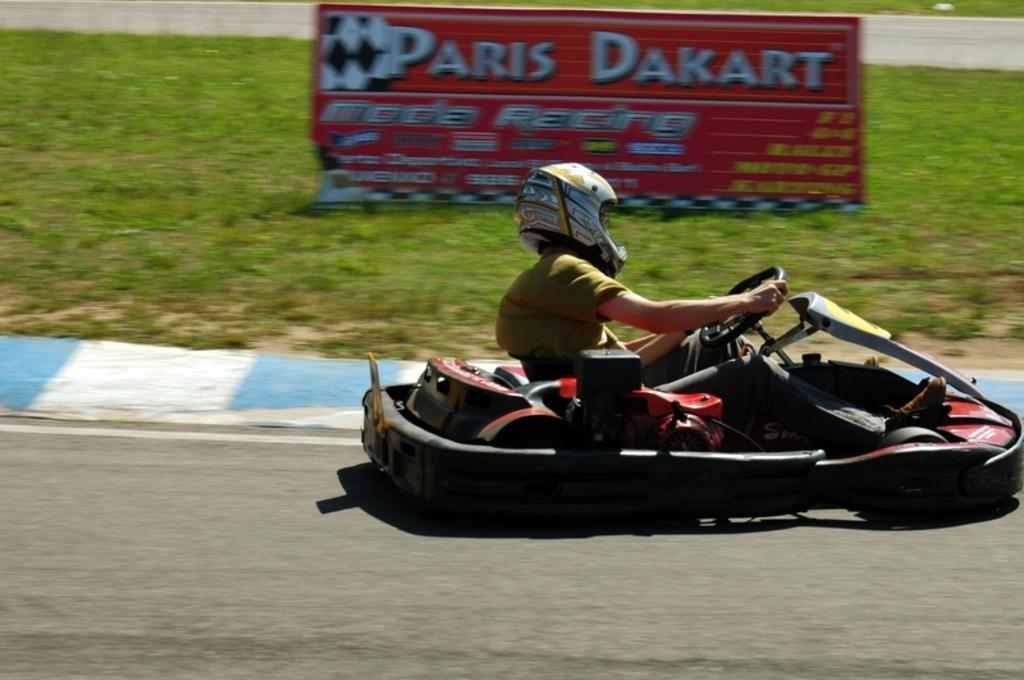helmet: (512, 160, 629, 281)
